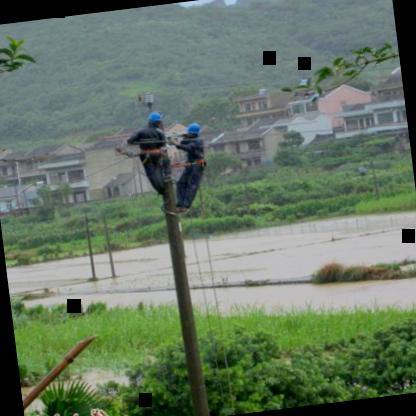helmet: (178, 119, 202, 144), (143, 109, 162, 131)
